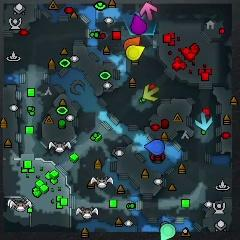p1: (144, 140, 165, 155)
p2: (160, 223, 176, 240)
p3: (131, 14, 147, 35)
p4: (126, 45, 145, 60)
p5: (124, 36, 140, 49)
x1: (140, 3, 157, 21)
x2: (143, 85, 159, 101)
x3: (195, 112, 212, 131)
